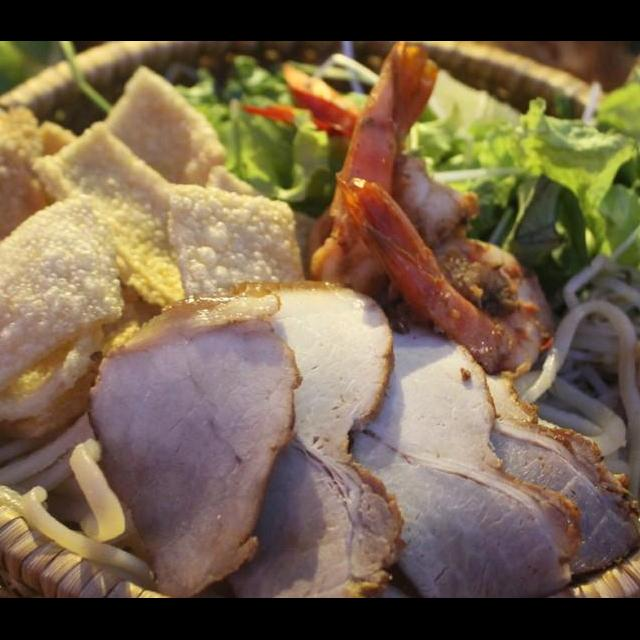banh da: (20, 116, 223, 314), (0, 189, 129, 422), (160, 178, 315, 314), (91, 62, 234, 198), (0, 98, 96, 300), (0, 318, 118, 453)
mi: (494, 294, 640, 533), (0, 408, 160, 587)
mi quang: (0, 85, 640, 598)
thit heo: (160, 276, 411, 598), (329, 312, 589, 598), (80, 287, 308, 598), (474, 364, 640, 591)
tom: (330, 170, 561, 386), (302, 42, 485, 312), (236, 58, 486, 255)
